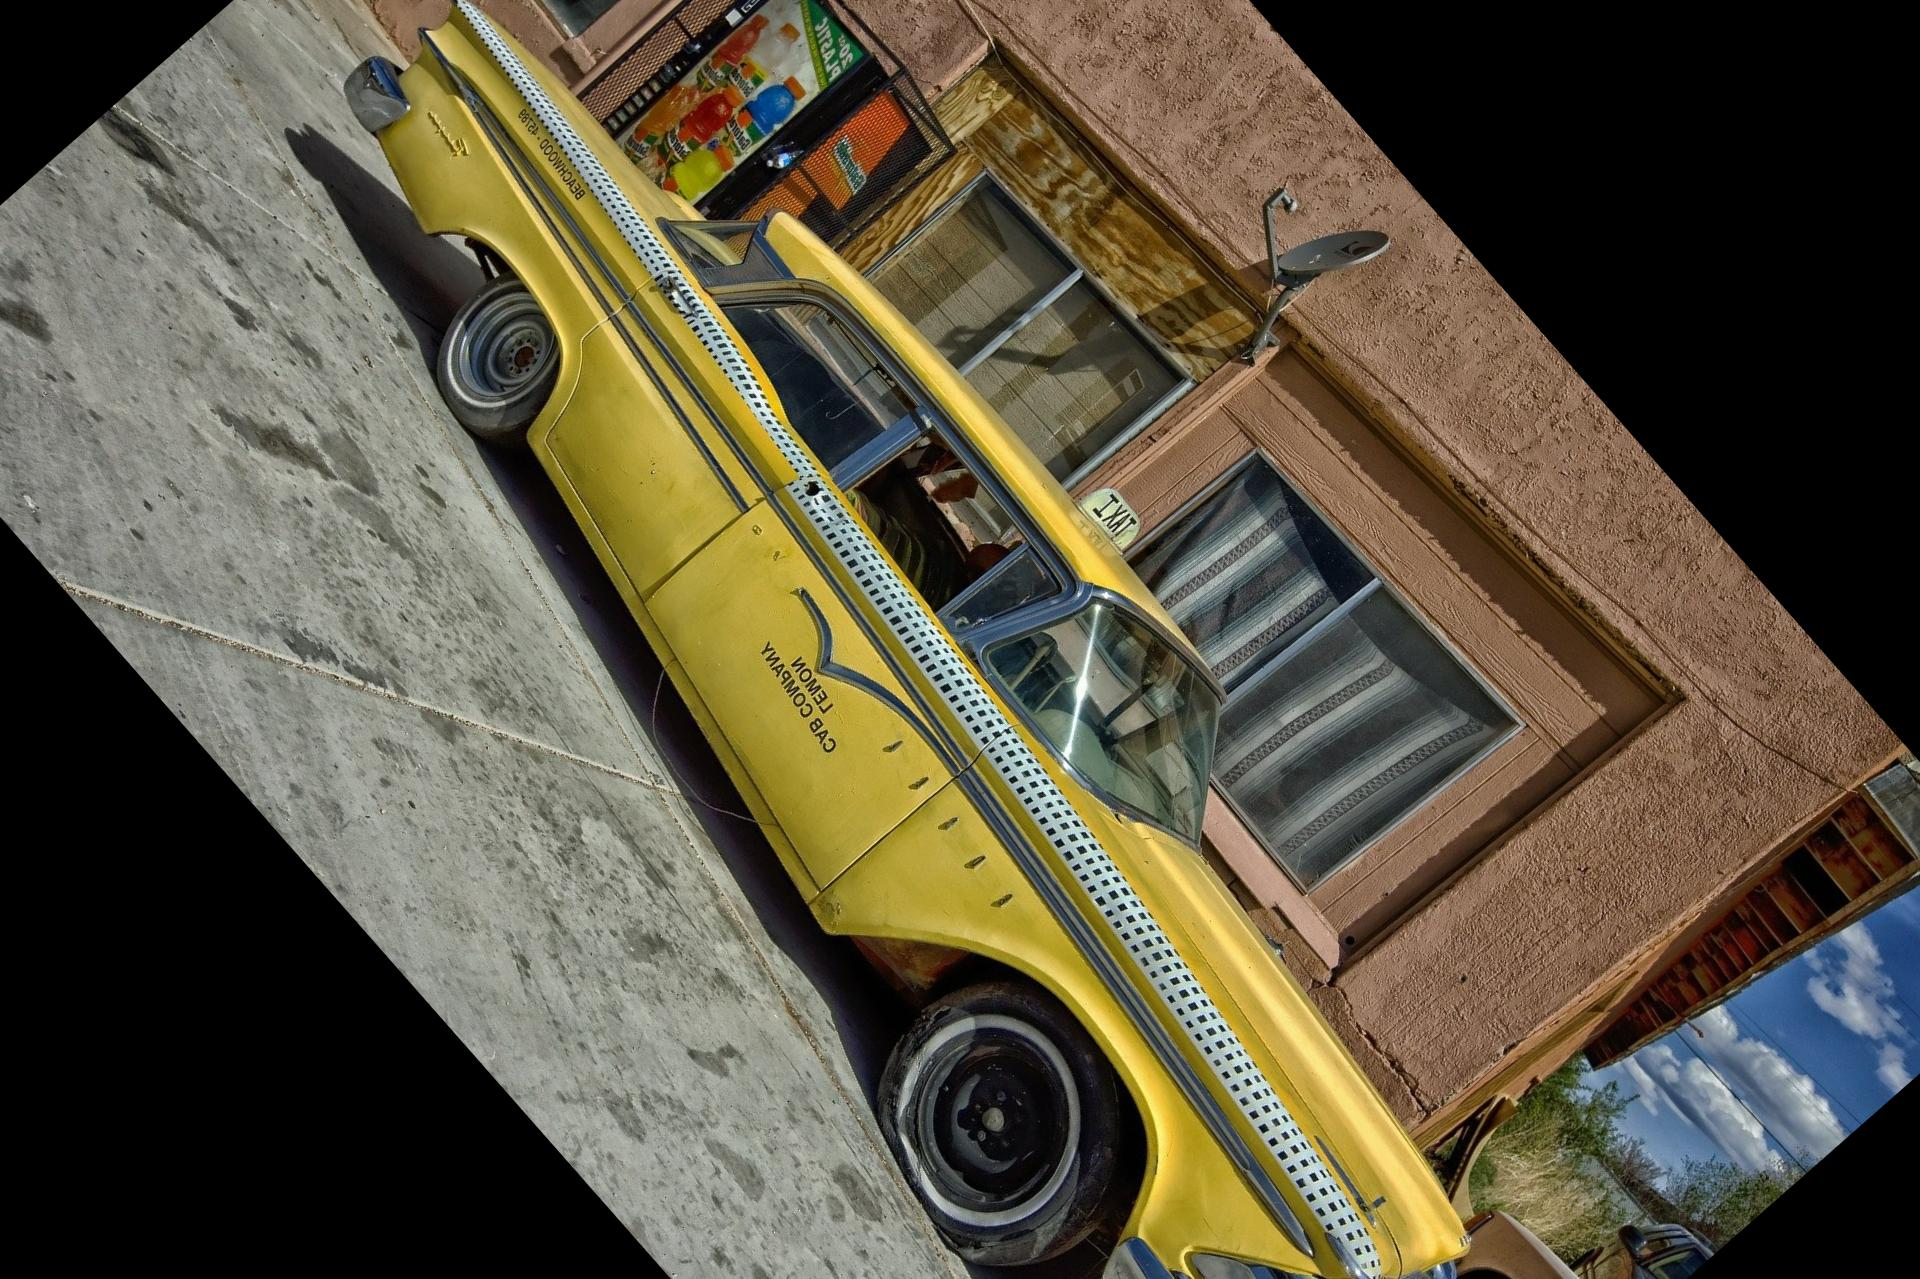taxi: (338, 1, 1470, 1279)
